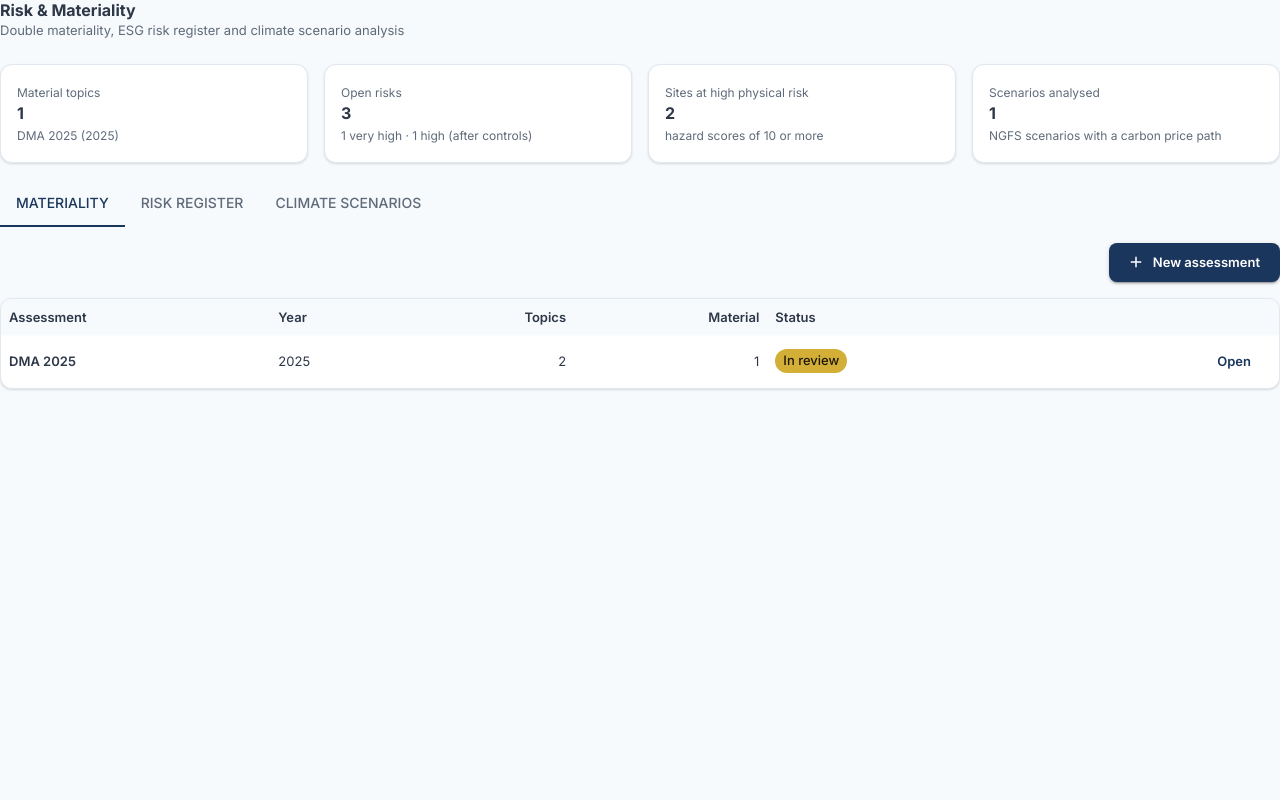
Test: Risk & Materiality page › shows the matrix and scores from the server, with segregation of duties on approval
The image size is (1280, 800).
Expected: the element named "Risk overview" shows "DMA 2025 (2025)", [17,128,119,143]
Click the button with aria-label "Open DMA 2025" at (1234, 361), box [1197,342,1271,381]
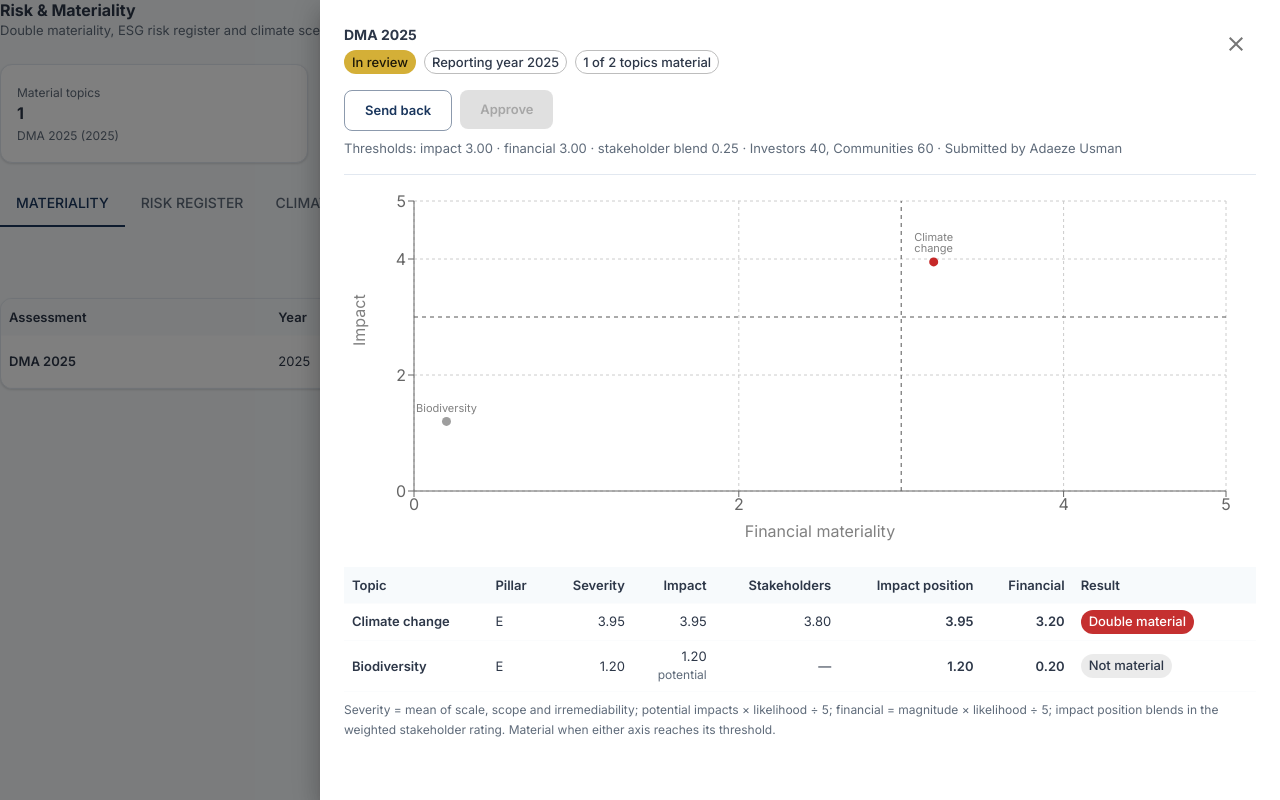
Expected: the picture named "Materiality matrix" is shown, [344,191,1256,551]
Expected: the row "Climate change E 3.95 3.95 3.80 3.95 3.20 Double material" is shown, [344,603,1256,640]
Expected: the row "Biodiversity E 1.20 1.20 potential — 1.20 0.20 Not material" is shown, [344,640,1256,692]
